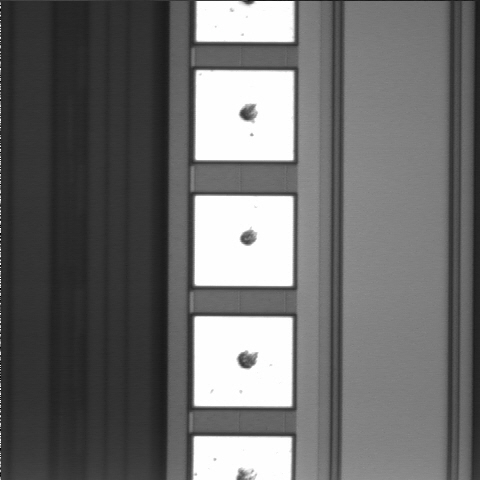pad: (194, 316, 292, 407), (195, 70, 294, 160), (195, 196, 293, 286)
